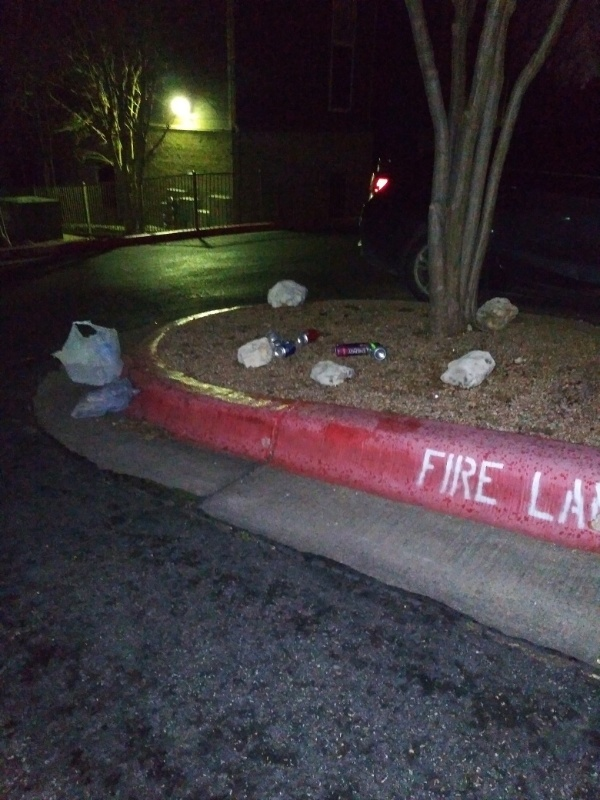can: (331, 341, 372, 358), (367, 341, 389, 362), (296, 328, 320, 347), (275, 342, 297, 359)
